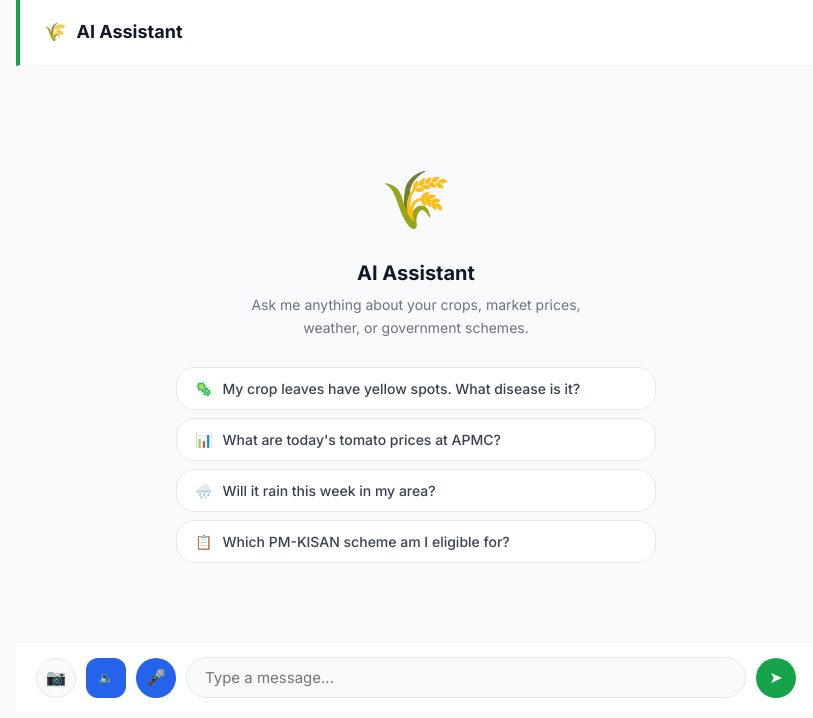
Test: ChatPage › sends a message and displays AI response
In the field with test id "chat-input": (466, 678) [186, 657, 746, 698], type "What fertilizer for rice?"
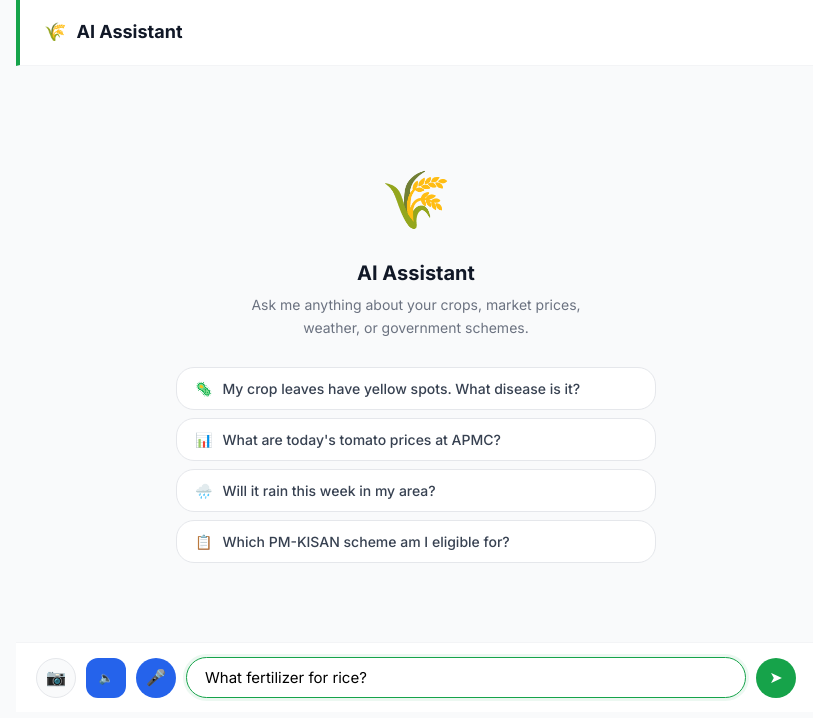
Click the button with test id "send-btn": (776, 678) [756, 658, 796, 698]
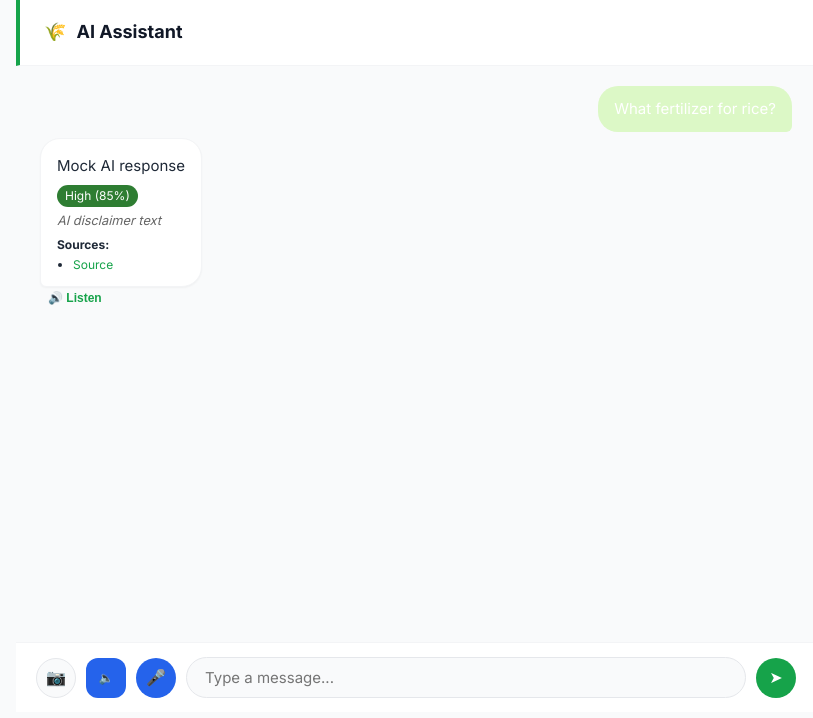
Expected: the element with test id "user-message" reads "What fertilizer for rice?", [614, 99, 776, 118]
Expected: the element with test id "ai-message" shows "Mock AI response", [57, 156, 185, 175]
Expected: the text "High (85%)" is shown, [57, 184, 138, 206]
